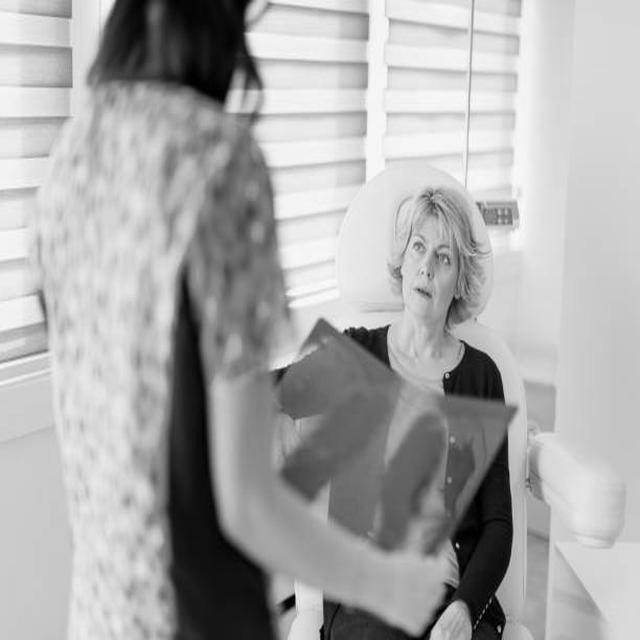Fear: (408, 215, 454, 318)
